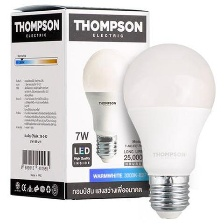book: (4, 0, 153, 206)
light_bulb: (119, 37, 219, 223)
